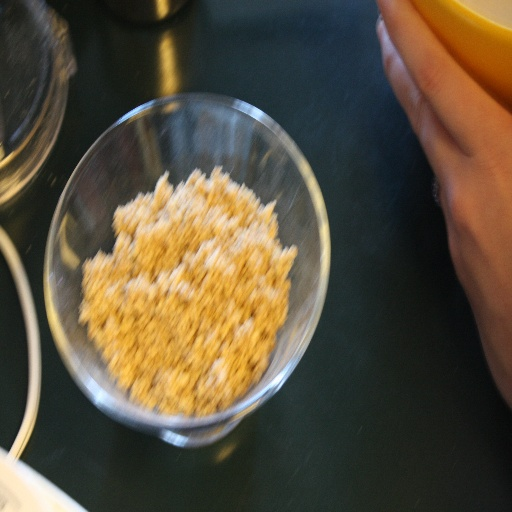hand: (375, 0, 512, 371)
